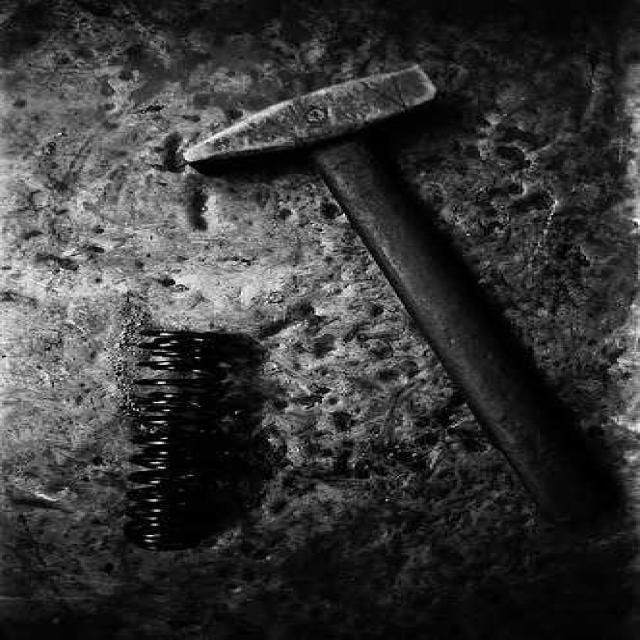hammer: (188, 65, 595, 524)
